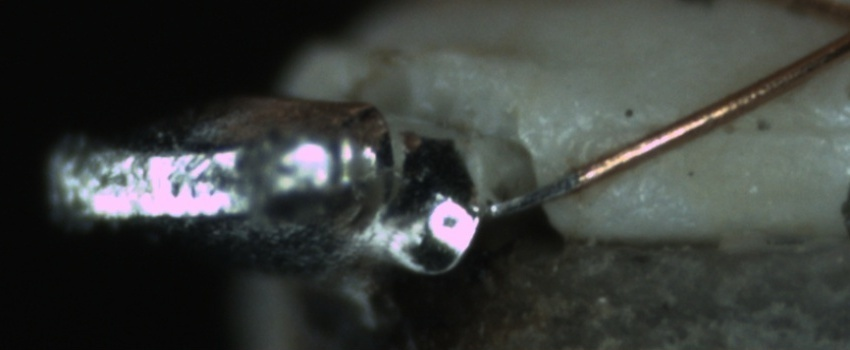DL: (619, 92, 849, 163)
TS: (483, 172, 581, 220)
